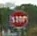stop: (8, 9, 28, 28)
